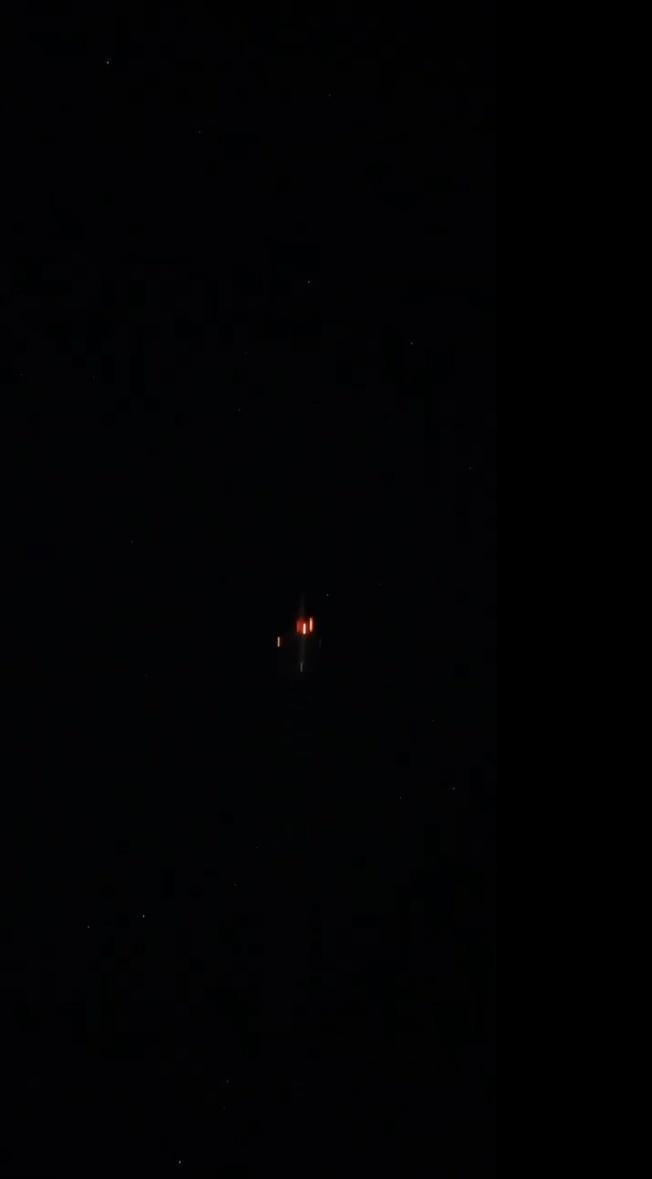Plane: (254, 569, 342, 702)
